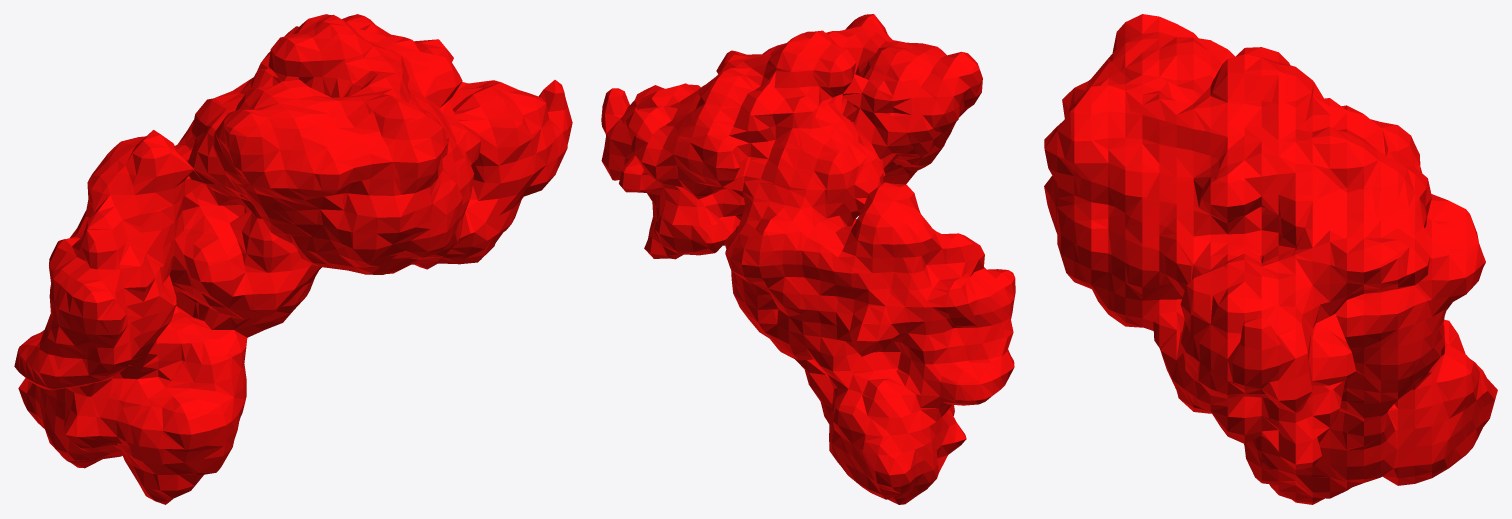
File: Transferrin_receptor_protein_1_coarse.dae
3 renders of one model, left to right at view 1: azimuth 30°, elevation 25°; view 2: azimuth 150°, elevation 25°; view 3: azimuth 270°, elevation 25°, orthographic. The views are drawn at different scales.
Visible parts, largest first — view 1: Transferrin_receptor_protein_1; view 2: Transferrin_receptor_protein_1; view 3: Transferrin_receptor_protein_1.
Part boxes in pixels (left/top/right/bottom): Transferrin_receptor_protein_1: left=14, top=14, right=572, bottom=504; Transferrin_receptor_protein_1: left=601, top=14, right=1015, bottom=504; Transferrin_receptor_protein_1: left=1044, top=14, right=1497, bottom=504.
Size of the model in its own units: 158 by 139 by 108.
